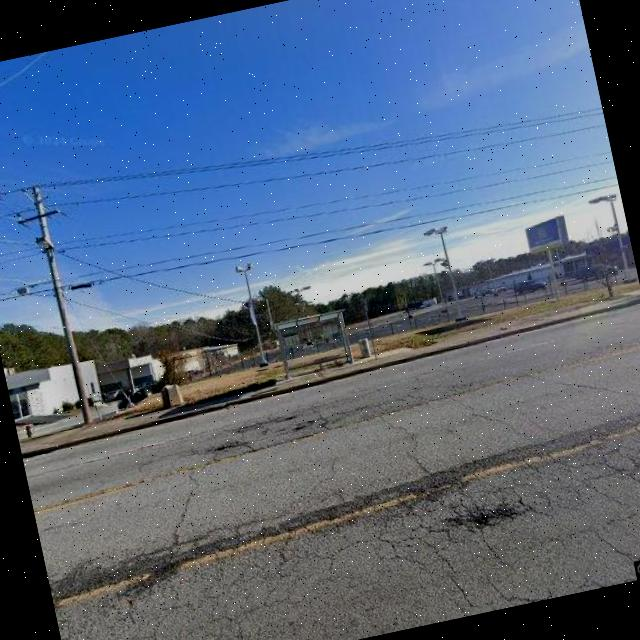seating: (312, 352, 342, 372)
shelter: (272, 308, 360, 382)
trash_can: (356, 336, 371, 359)
